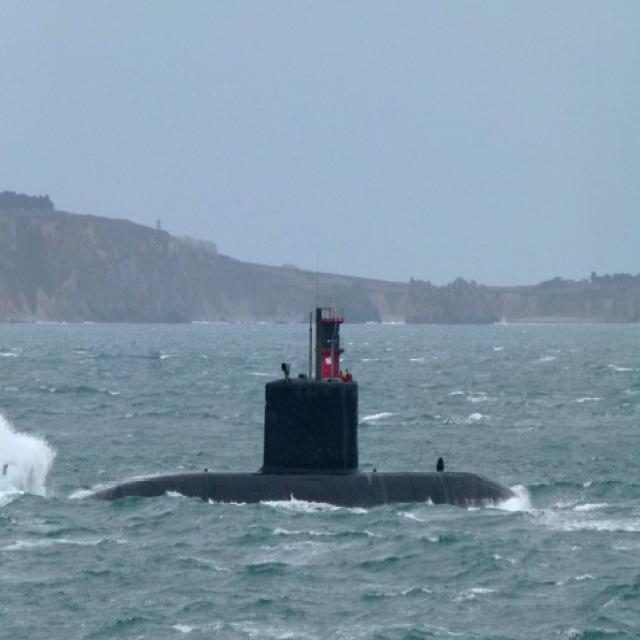submarine: (91, 297, 533, 500)
